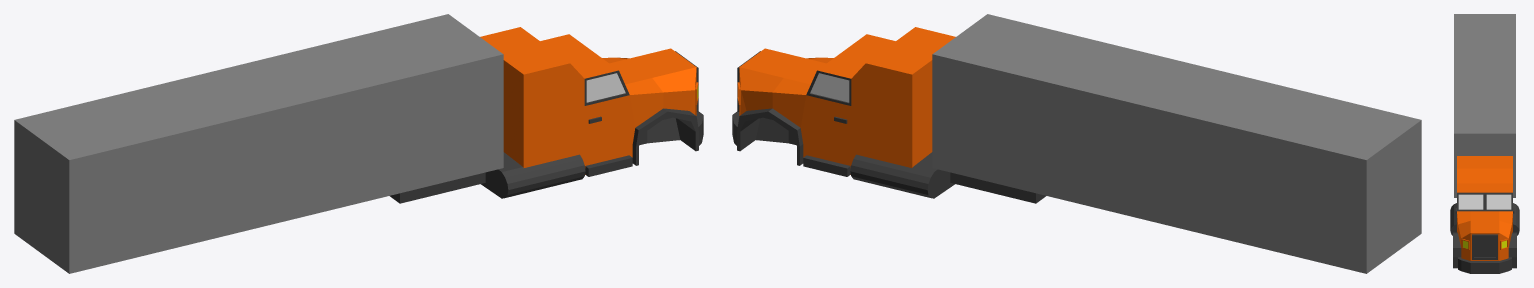
Rendered from semi.glb.
3 views of the same model, side by side, from view 1: azimuth 30°, elevation 25°; view 2: azimuth 150°, elevation 25°; view 3: azimuth 270°, elevation 25° (orthographic). The views are drawn at different scales.
Parts seen in each view (by area): view 1: Cube, Semi; view 2: Cube, Semi; view 3: Cube, Semi.
Part boxes in pixels (bbox=[...]): Cube: bbox=[14, 14, 503, 273]; Semi: bbox=[390, 27, 703, 203]; Cube: bbox=[932, 14, 1421, 273]; Semi: bbox=[732, 27, 1045, 203]; Cube: bbox=[1454, 14, 1515, 197]; Semi: bbox=[1450, 156, 1519, 273].
Size of the model in its own units: 7.84 by 1.71 by 1.28.
